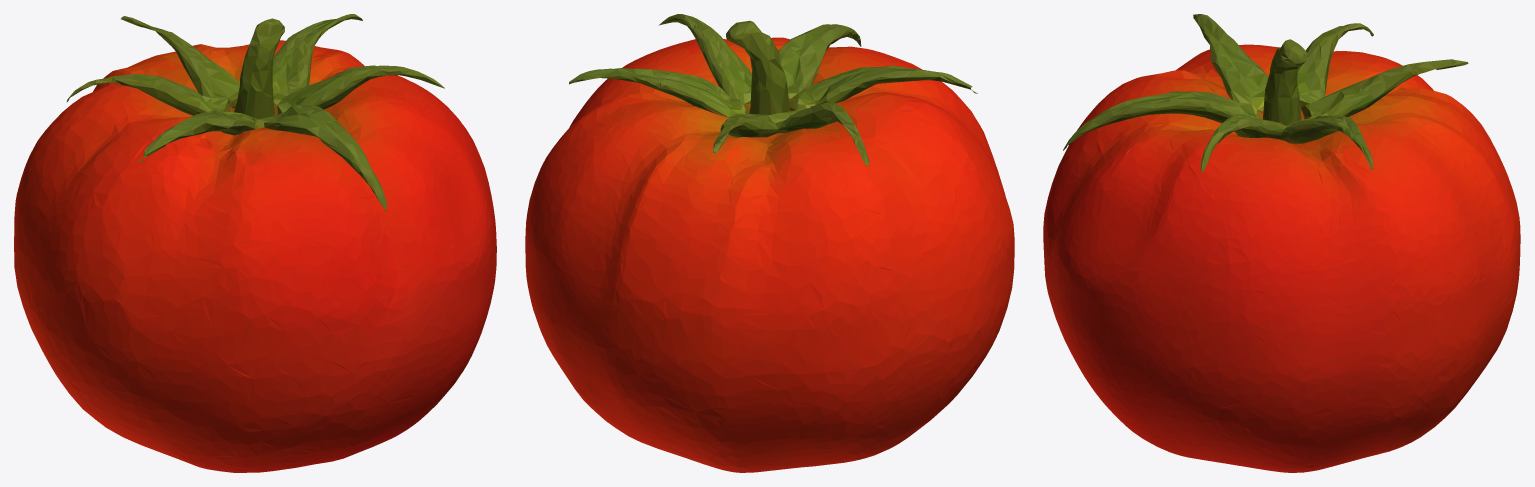
The model's file is tomato.glb.
The picture shows the model from 3 angles, left to right: view 1: azimuth 30°, elevation 25°; view 2: azimuth 150°, elevation 25°; view 3: azimuth 270°, elevation 25°; orthographic projection. The views are drawn at different scales.
Visible parts, largest first — view 1: geometry_0; view 2: geometry_0; view 3: geometry_0.
Part boxes in pixels (bbox=[...]): geometry_0: bbox=[14, 14, 496, 472]; geometry_0: bbox=[525, 14, 1014, 472]; geometry_0: bbox=[1043, 14, 1520, 472].
Size of the model in its own units: 0.0749 by 0.0692 by 0.075.
1 material, 1 textured.
